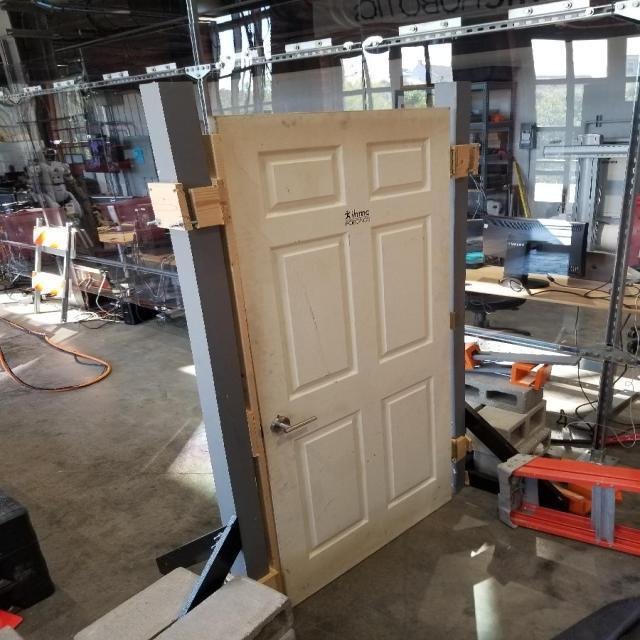door: (203, 103, 454, 610), (267, 411, 320, 444)
